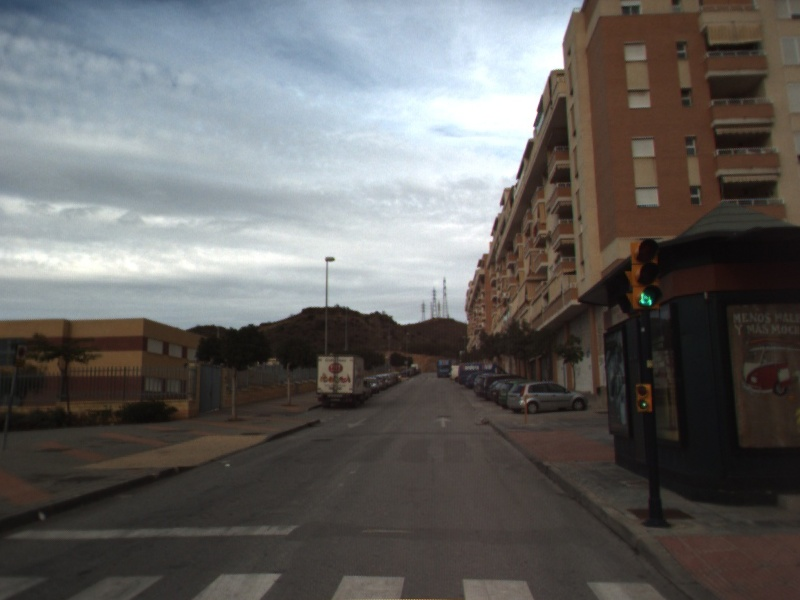STRAIGHT: (433, 414, 455, 429)
